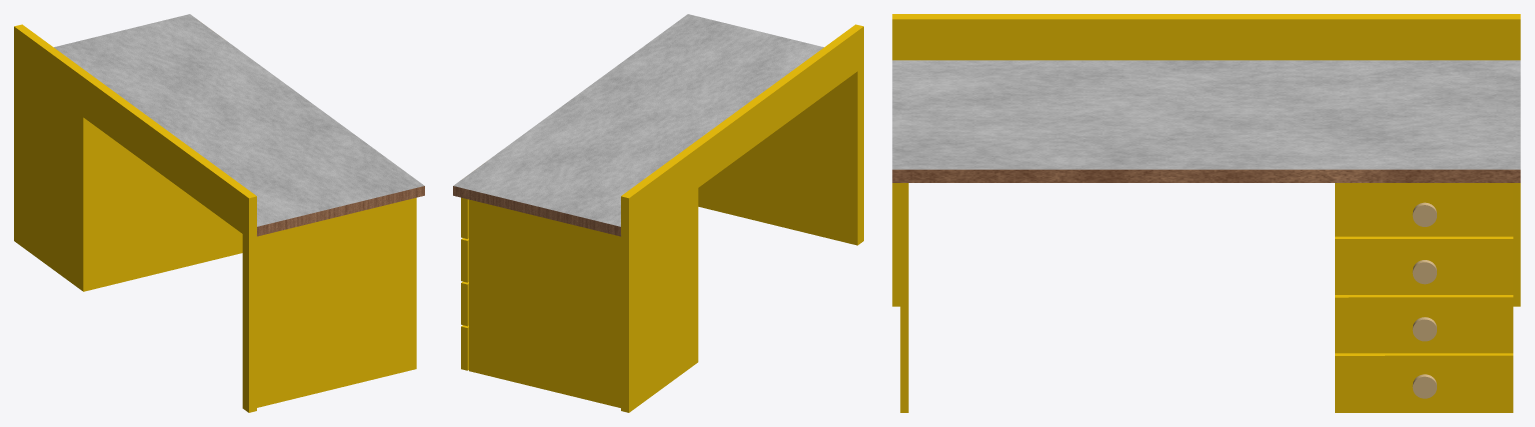
File: Elec_teacher table.fbx
3 views of the same model, side by side, from view 1: azimuth 30°, elevation 25°; view 2: azimuth 150°, elevation 25°; view 3: azimuth 270°, elevation 25° (orthographic). The views are drawn at different scales.
Parts seen in each view (by area): view 1: Cube; view 2: Cube; view 3: Cube.
Boxes of the visible parts, x1,y1,x2,y2 form: Cube: (14,14,424,412); Cube: (453,14,863,412); Cube: (892,14,1520,412).
Bounding box in the file's own units: 206 × 233 × 462.
Materials: 1 (1 with a texture image).
